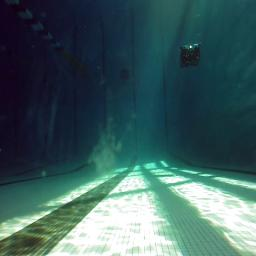Full: (121, 73, 129, 80)
front: (180, 42, 202, 67)
